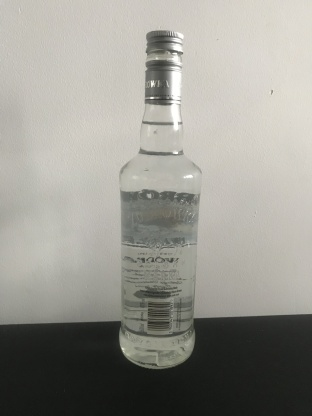nakretka: (143, 28, 184, 105)
